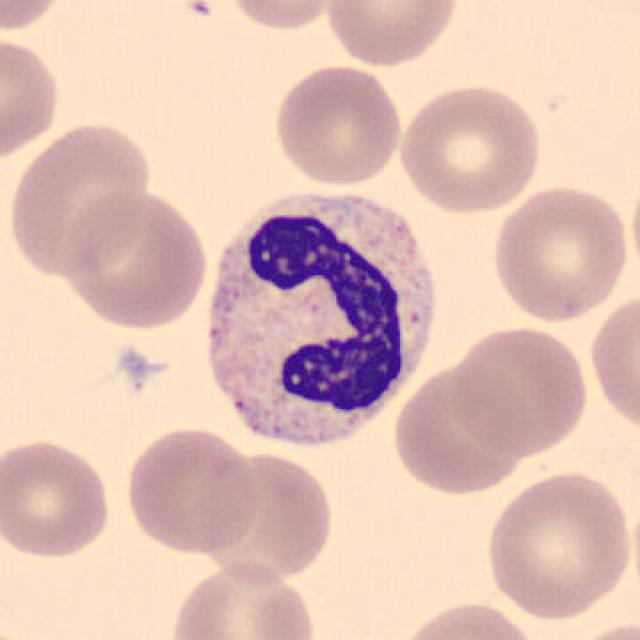Neutrophil: (190, 175, 448, 460)
Platelets: (114, 345, 160, 388)
RBC: (5, 116, 155, 278), (480, 466, 635, 622), (62, 185, 212, 332), (487, 180, 633, 324), (394, 79, 546, 217), (388, 358, 532, 497), (450, 322, 594, 457), (119, 423, 263, 557), (199, 446, 338, 584), (268, 62, 406, 188), (0, 433, 117, 560), (165, 557, 320, 640), (322, 0, 462, 69), (0, 30, 64, 164), (585, 287, 640, 441), (395, 596, 542, 640), (220, 0, 348, 33), (0, 0, 75, 37), (560, 617, 640, 640)
